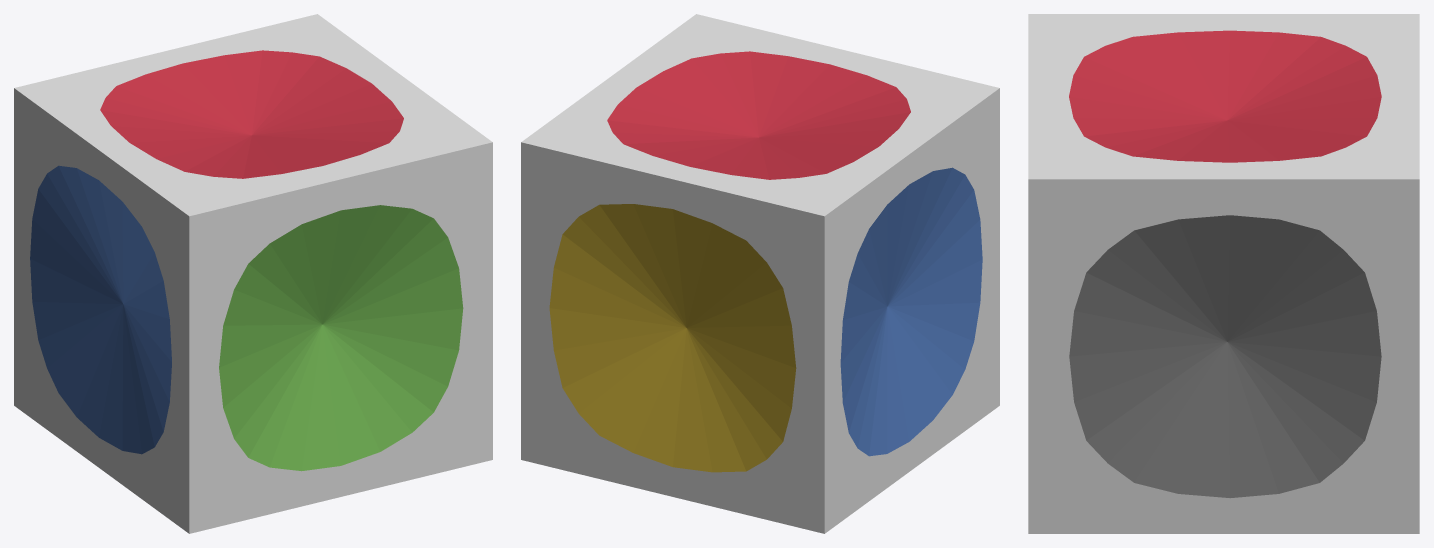
File: ROLLINGCUBEwithCOLORS.blend1.fbx
3 renders of one model, left to right at view 1: azimuth 30°, elevation 25°; view 2: azimuth 150°, elevation 25°; view 3: azimuth 270°, elevation 25°, orthographic. The views are drawn at different scales.
Parts seen in each view (by area): view 1: Cube; view 2: Cube; view 3: Cube.
Part boxes in pixels (<box>): Cube: <box>14,14,492,533</box>; Cube: <box>521,14,999,533</box>; Cube: <box>1028,14,1419,533</box>.
Size of the model in its own units: 200 by 200 by 200.
